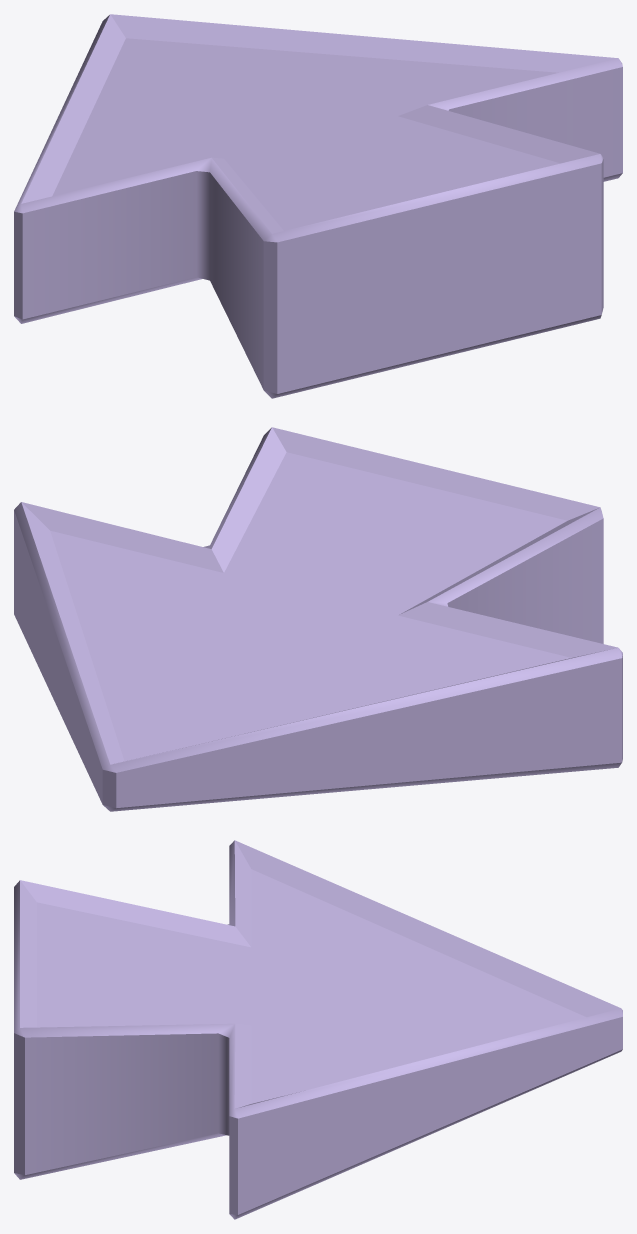
The picture shows the model from 3 angles, top to bottom: view 1: azimuth 30°, elevation 25°; view 2: azimuth 150°, elevation 25°; view 3: azimuth 270°, elevation 25°; orthographic projection. The views are drawn at different scales.
Visible parts, largest first — view 1: node_id45; view 2: node_id45; view 3: node_id45.
Boxes of the visible parts, bbox=[...] form: node_id45: bbox=[14, 14, 622, 398]; node_id45: bbox=[14, 427, 622, 811]; node_id45: bbox=[14, 840, 622, 1219].
Size of the model in its own units: 0.512 by 0.1326 by 0.4814.
Materials: 1 (1 with a texture image).
